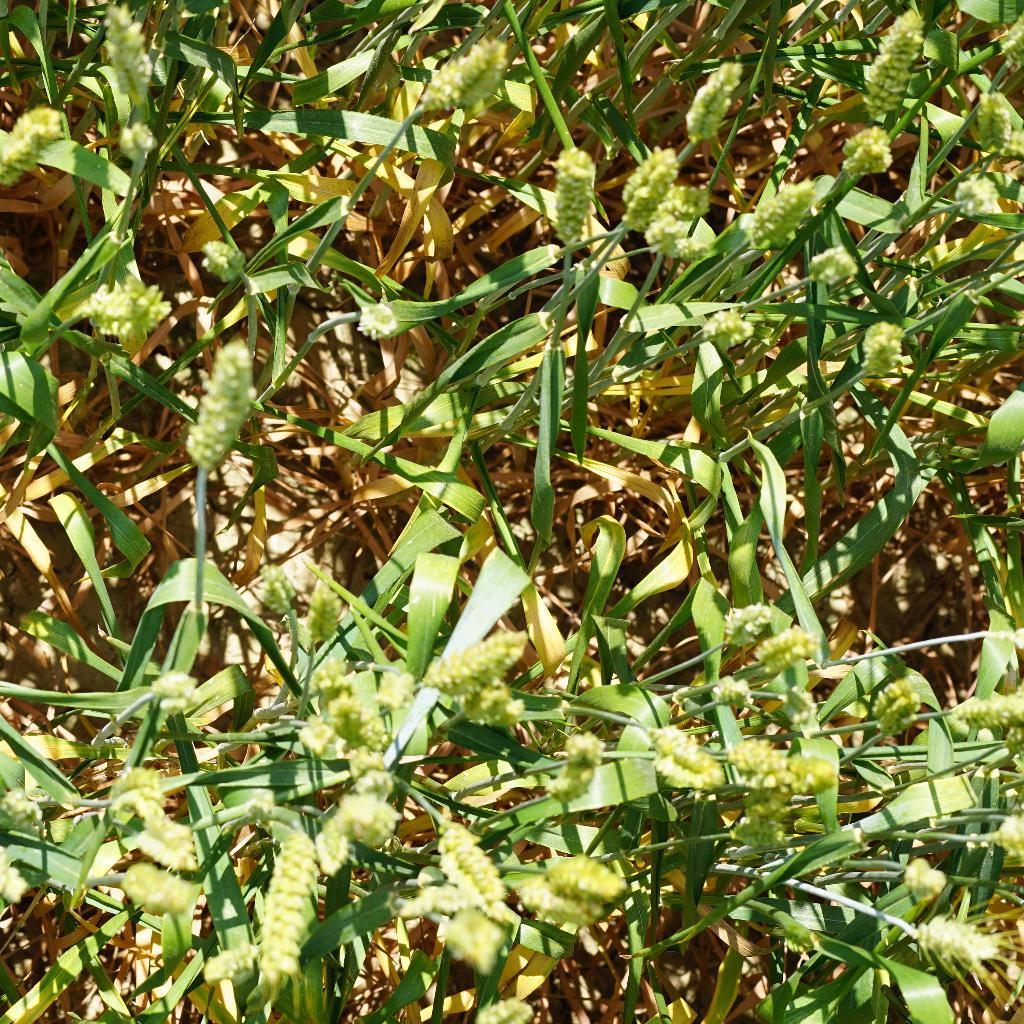0-0: (249, 798, 326, 991), (172, 328, 256, 500), (59, 266, 186, 362), (396, 613, 533, 686), (843, 0, 926, 120), (406, 38, 514, 130), (115, 761, 201, 873), (673, 37, 747, 152), (503, 871, 615, 945), (94, 2, 175, 104), (735, 172, 832, 253), (430, 810, 511, 907), (109, 838, 204, 920), (538, 142, 600, 262), (523, 837, 636, 901), (637, 719, 733, 793), (616, 137, 684, 238), (908, 918, 1009, 982), (296, 570, 365, 657), (437, 900, 514, 974), (0, 109, 64, 194), (444, 675, 539, 731), (628, 179, 718, 238), (964, 85, 1024, 164), (552, 731, 612, 810), (847, 316, 915, 385), (705, 582, 770, 651), (328, 787, 400, 848), (946, 679, 1024, 732), (254, 550, 303, 632), (198, 923, 256, 990), (350, 292, 408, 357), (836, 126, 905, 180), (733, 770, 801, 824), (946, 165, 1009, 222), (332, 695, 399, 748), (305, 806, 355, 877), (720, 810, 802, 853), (761, 620, 822, 677), (200, 232, 256, 294), (339, 739, 396, 796), (799, 245, 866, 293), (0, 777, 48, 843), (130, 664, 205, 706), (307, 653, 367, 705), (105, 119, 175, 163), (873, 676, 918, 743), (643, 217, 704, 266), (699, 300, 755, 353), (736, 731, 788, 788), (899, 855, 959, 903), (463, 991, 545, 1024), (788, 748, 848, 789), (301, 706, 346, 758), (0, 836, 32, 908), (705, 671, 753, 715), (776, 683, 822, 728), (779, 915, 822, 960)
